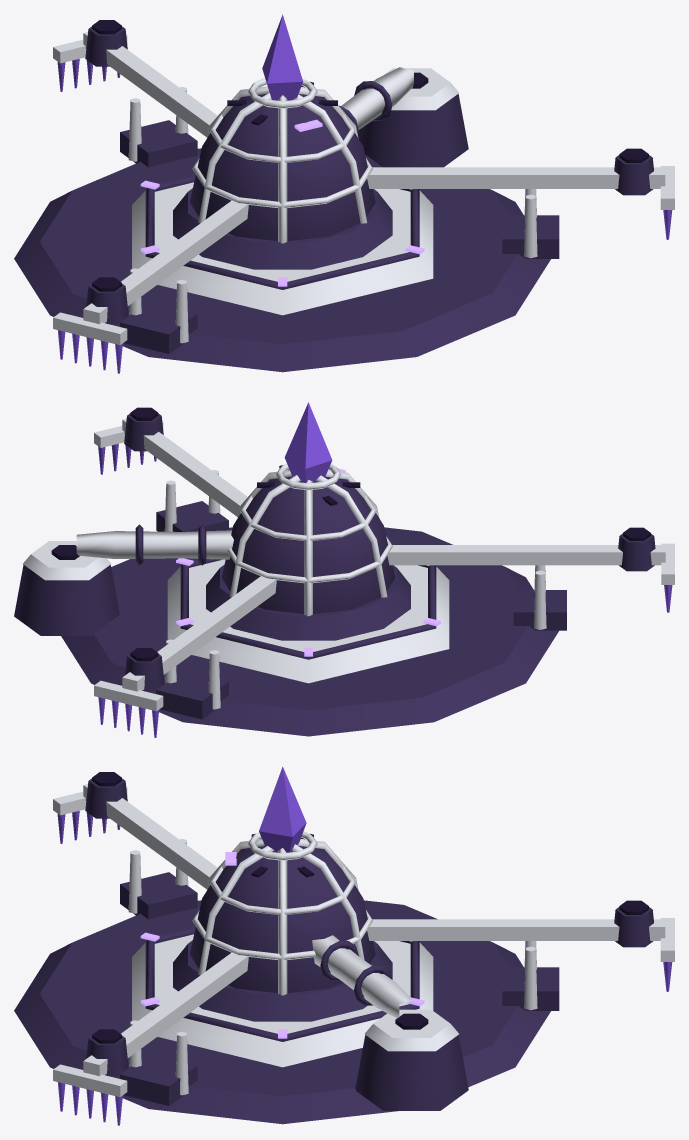
Rendered from bio-reactor-hadron.glb.
3 renders of one model, top to bottom at view 1: azimuth 30°, elevation 25°; view 2: azimuth 150°, elevation 25°; view 3: azimuth 270°, elevation 25°, orthographic. The views are drawn at different scales.
Parts seen in each view (by area): view 1: holdfast_mat, reactor_vessel, footprint_slab, intake_boom (×3), vessel_plinth, anchor_foot (×3), outflow_cistern, throat_drum (×3), slab_kerb, rake_beam (×3), crystal_core, outflow_conduit (+9 smaller); view 2: holdfast_mat, reactor_vessel, footprint_slab, intake_boom (×3), vessel_plinth, outflow_cistern, anchor_foot (×3), outflow_conduit, throat_drum (×3), slab_kerb, crystal_core, rake_beam (×3) (+9 smaller); view 3: holdfast_mat, reactor_vessel, intake_boom (×3), footprint_slab, anchor_foot (×3), outflow_cistern, vessel_plinth, throat_drum (×3), slab_kerb, outflow_conduit, cistern_cap, rake_beam (×3) (+9 smaller).
Part boxes in pixels (x1,y1,x2,y2): holdfast_mat: [14, 148, 550, 372]; reactor_vessel: [189, 93, 375, 241]; footprint_slab: [132, 182, 433, 315]; intake_boom (×3): [83, 32, 665, 324]; vessel_plinth: [173, 188, 392, 269]; anchor_foot (×3): [120, 120, 559, 353]; outflow_cistern: [358, 94, 468, 167]; throat_drum (×3): [85, 26, 653, 323]; slab_kerb: [145, 175, 419, 289]; rake_beam (×3): [53, 35, 674, 345]; crystal_core: [262, 14, 303, 100]; outflow_conduit: [341, 67, 413, 129]; holdfast_mat: [61, 527, 558, 736]; reactor_vessel: [221, 476, 395, 613]; footprint_slab: [167, 559, 449, 683]; intake_boom (×3): [122, 418, 665, 691]; vessel_plinth: [206, 564, 410, 640]; outflow_cistern: [14, 564, 119, 635]; anchor_foot (×3): [156, 501, 566, 719]; outflow_conduit: [76, 530, 233, 559]; throat_drum (×3): [124, 413, 655, 691]; slab_kerb: [180, 559, 436, 659]; crystal_core: [284, 402, 332, 482]; rake_beam (×3): [94, 422, 674, 711]; holdfast_mat: [14, 900, 550, 1124]; reactor_vessel: [189, 845, 375, 993]; intake_boom (×3): [83, 784, 665, 1076]; footprint_slab: [132, 934, 433, 1067]; anchor_foot (×3): [120, 872, 559, 1105]; outflow_cistern: [355, 1035, 468, 1110]; vessel_plinth: [173, 940, 392, 1021]; throat_drum (×3): [85, 778, 653, 1075]; slab_kerb: [145, 927, 419, 1041]; outflow_conduit: [312, 935, 413, 1018]; cistern_cap: [365, 1009, 458, 1051]; rake_beam (×3): [53, 787, 674, 1097].
Bounding box in the file's own units: 180 × 67.62 × 166.
